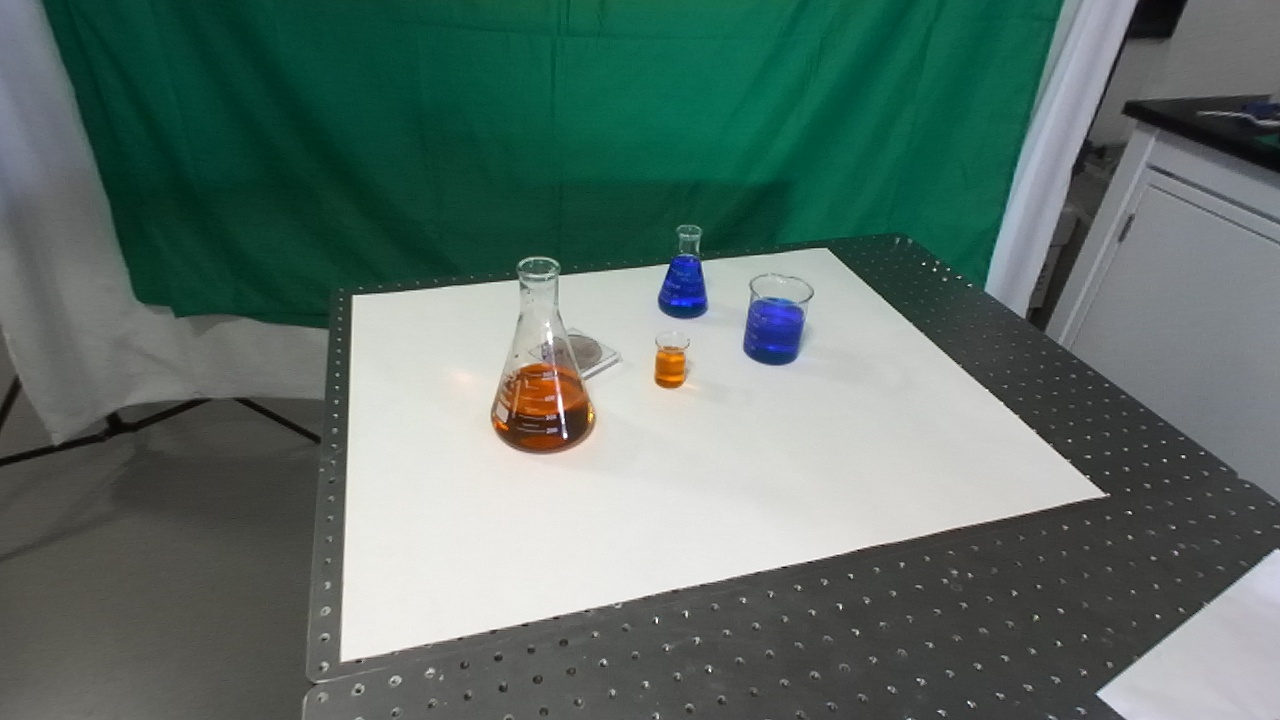glass: (487, 252, 599, 460), (742, 271, 816, 368), (655, 221, 711, 322), (652, 328, 692, 391)
plate: (526, 324, 626, 386)
